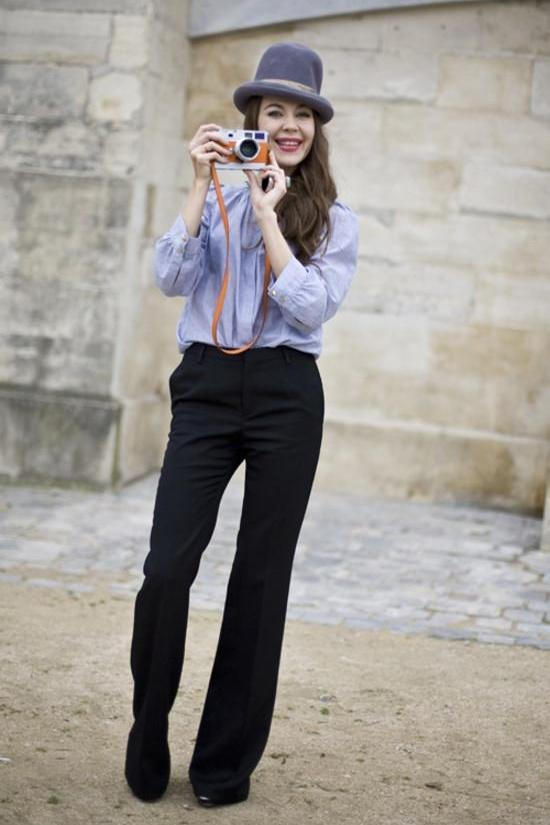pants: (152, 186, 359, 354)
shirt: (124, 344, 325, 804)
